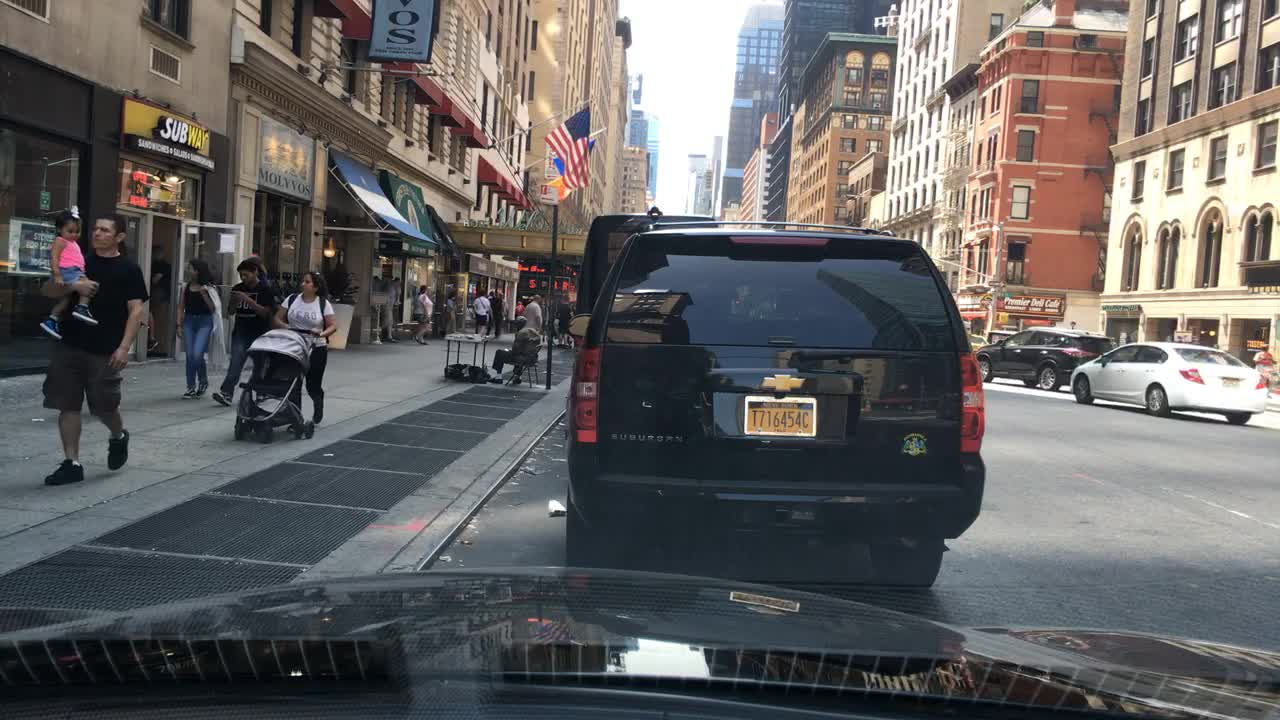car: (561, 222, 979, 588), (575, 213, 718, 346), (1070, 341, 1268, 425), (969, 328, 1112, 390), (967, 334, 988, 351)
person: (36, 212, 150, 486), (273, 269, 341, 426), (208, 260, 275, 406), (36, 207, 99, 339), (177, 259, 222, 400), (486, 313, 544, 385), (257, 353, 289, 411), (378, 273, 401, 343), (411, 283, 432, 349), (554, 294, 576, 349), (1250, 343, 1275, 385), (524, 291, 546, 334), (442, 291, 461, 338), (471, 290, 492, 331), (490, 291, 506, 335), (514, 299, 525, 326)
traffic light: (991, 313, 1006, 323)
traffic sign: (993, 290, 1013, 296), (988, 279, 1005, 286)
